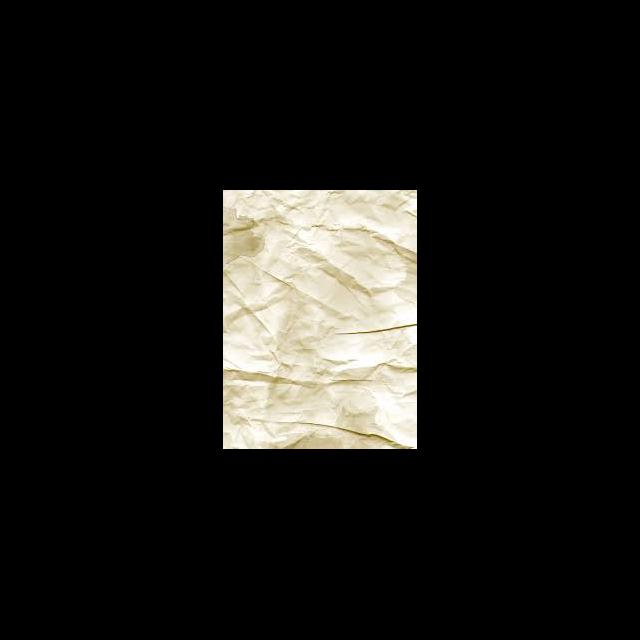paper: (223, 190, 416, 448)
